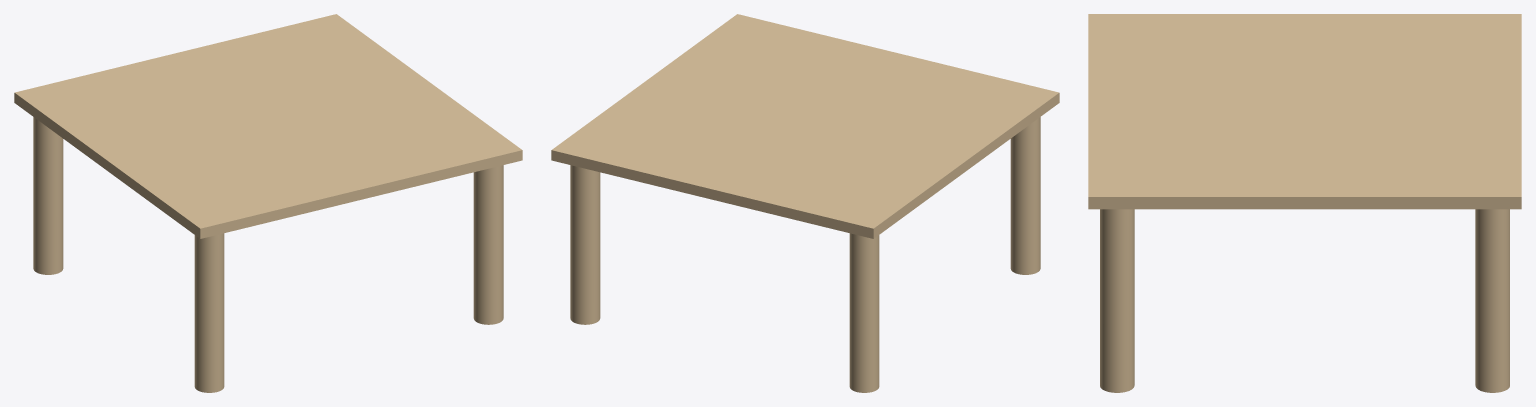
File: ikea-hemnes-80214547-g2-proxy.glb
The picture shows the model from 3 angles, left to right: view 1: azimuth 30°, elevation 25°; view 2: azimuth 150°, elevation 25°; view 3: azimuth 270°, elevation 25°; orthographic projection. The views are drawn at different scales.
Parts seen in each view (by area): view 1: proxy_body, leg (×3); view 2: proxy_body, leg (×3); view 3: proxy_body, leg (×2).
Boxes of the visible parts, <box> form: proxy_body: <box>14,14,522,238</box>; leg (×3): <box>33,117,503,392</box>; proxy_body: <box>551,14,1059,238</box>; leg (×3): <box>570,117,1040,392</box>; proxy_body: <box>1088,14,1521,209</box>; leg (×2): <box>1100,209,1509,392</box>.
Size of the model in its own units: 0.9 by 0.46 by 0.9.
